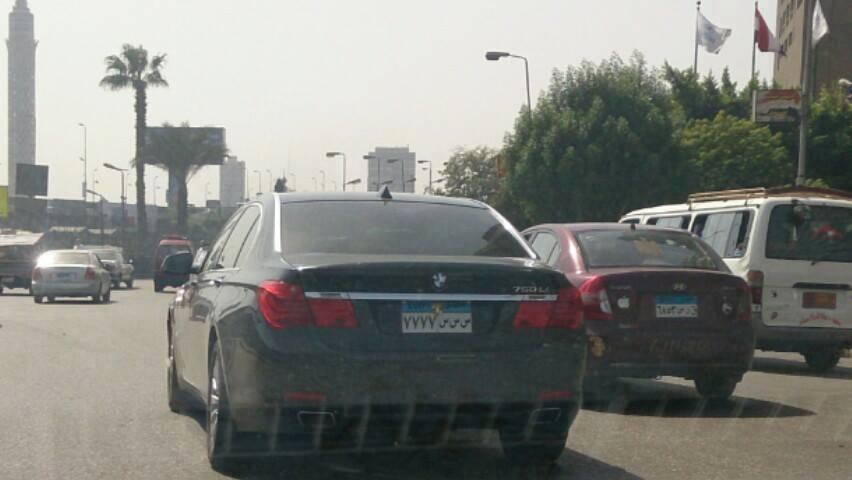7: (428, 314, 436, 329), (403, 314, 411, 329), (412, 315, 420, 328), (421, 314, 428, 328)
License Plate: (399, 298, 473, 335), (653, 292, 699, 319), (801, 291, 837, 309), (57, 273, 69, 281)
Seen: (460, 318, 471, 329), (449, 319, 460, 329), (439, 319, 449, 329)
car: (165, 193, 586, 470), (573, 223, 751, 408), (744, 193, 852, 354), (34, 251, 109, 298), (0, 232, 32, 295), (156, 237, 188, 290), (107, 246, 134, 290)
